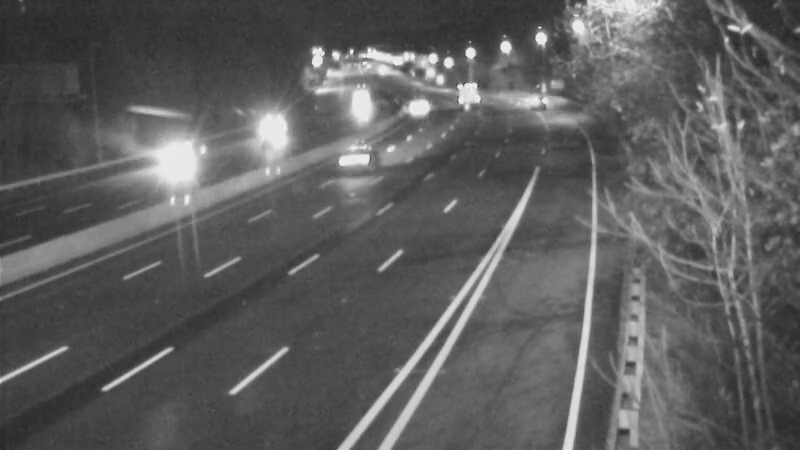vehicle: (318, 119, 398, 199), (138, 127, 218, 207), (508, 75, 558, 125), (438, 68, 488, 118), (396, 77, 446, 127), (241, 105, 291, 155), (337, 75, 387, 125)
